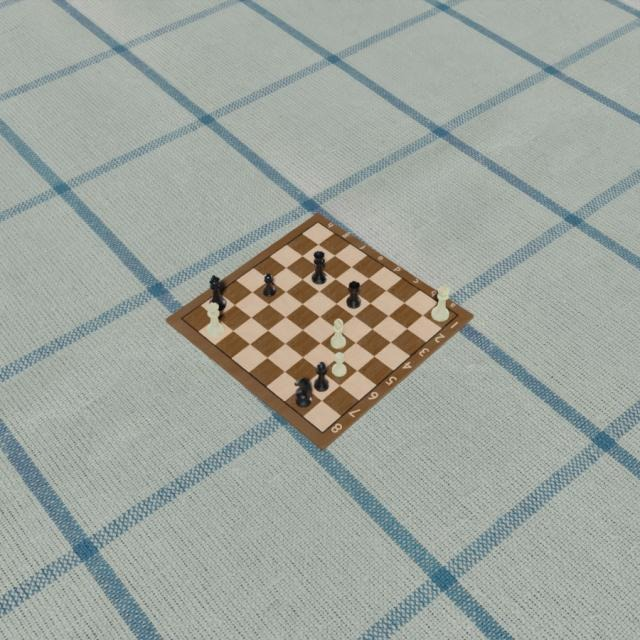black-bishop: (313, 359, 330, 392)
black-king: (209, 275, 227, 312)
black-knight: (294, 377, 313, 408)
black-pawn: (262, 273, 277, 299)
black-queen: (312, 250, 328, 285)
black-rook: (345, 279, 362, 308)
white-king: (430, 285, 450, 323), (329, 317, 347, 350)
white-pawn: (331, 351, 349, 377)
white-queen: (206, 302, 225, 338)
